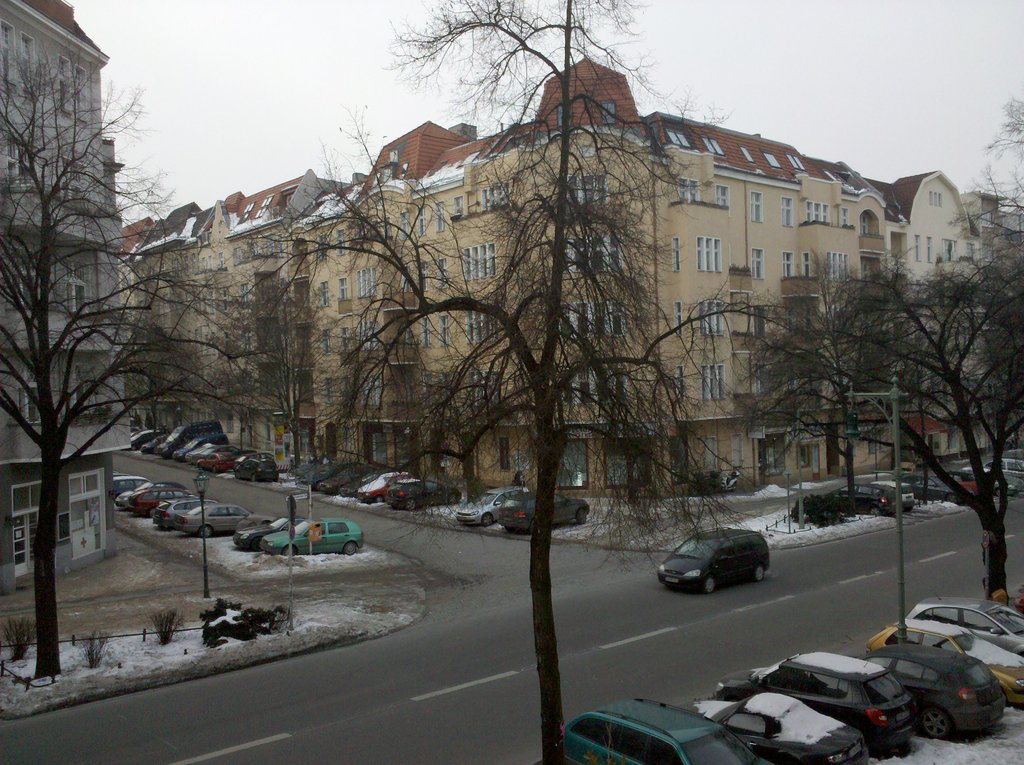Car: (714, 656, 925, 751), (559, 693, 771, 764), (871, 639, 1015, 736), (888, 619, 1023, 705), (714, 689, 866, 764), (646, 530, 772, 605), (304, 459, 455, 515), (903, 592, 1023, 644), (172, 434, 279, 480), (259, 518, 369, 558), (506, 482, 589, 528), (455, 485, 529, 531), (179, 501, 250, 539), (825, 485, 892, 518), (115, 475, 186, 506), (231, 512, 293, 547), (875, 478, 919, 511), (153, 498, 193, 526), (142, 434, 170, 450), (132, 430, 158, 441)
